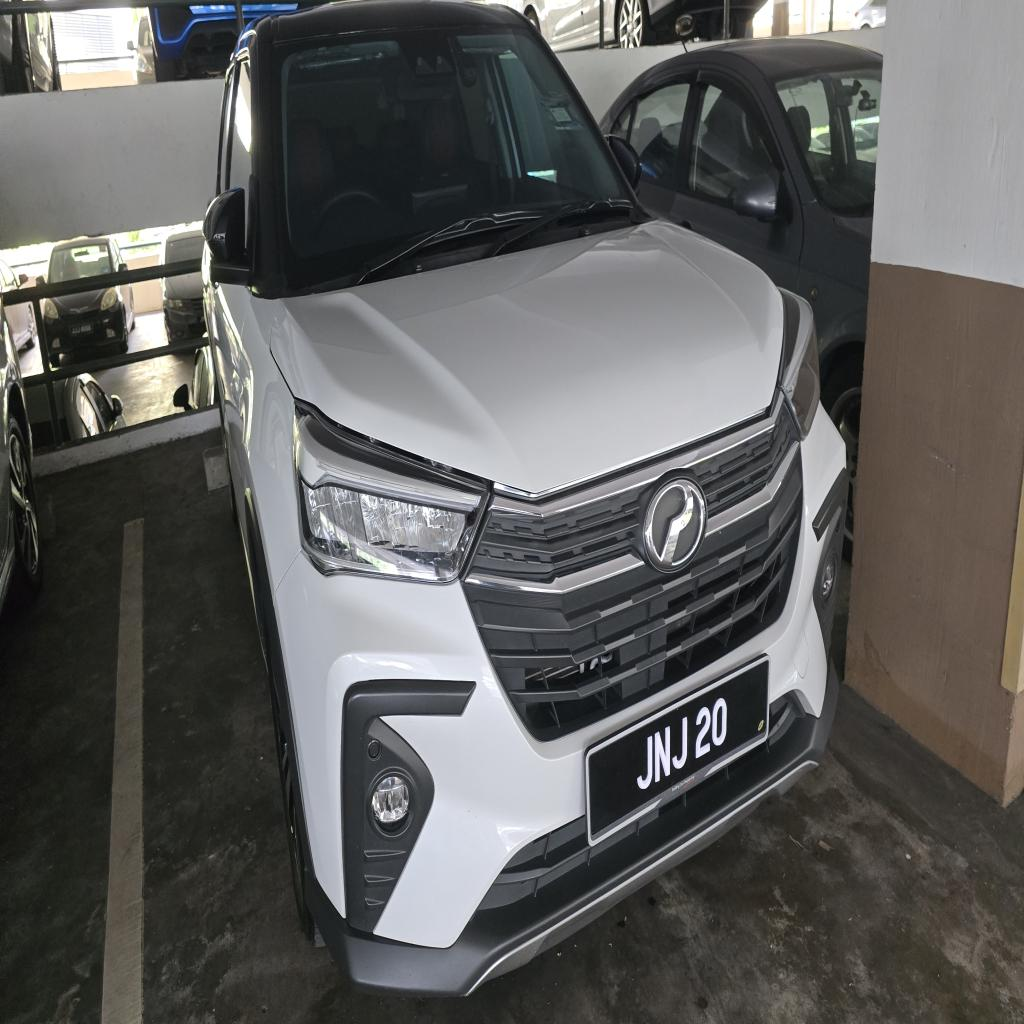car: (204, 0, 846, 993)
car plate: (586, 658, 768, 843)
